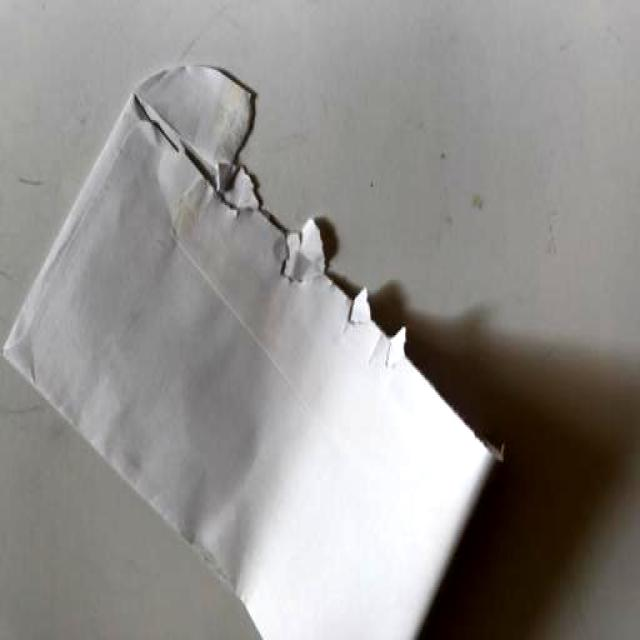Paper: (0, 50, 513, 640)
